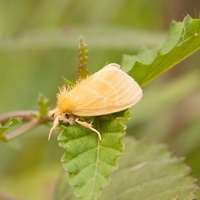insect: (48, 63, 141, 138)
